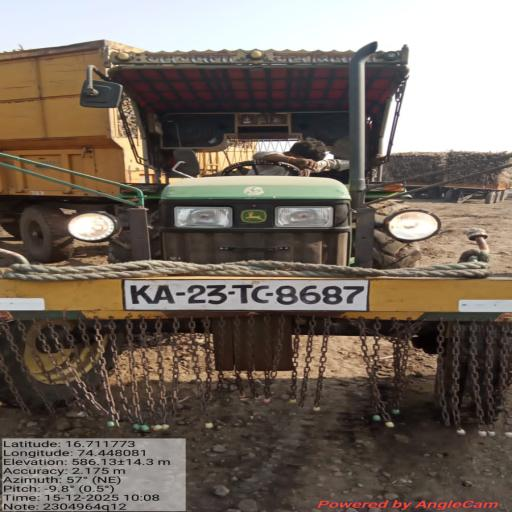number_plate: (123, 280, 368, 311)
